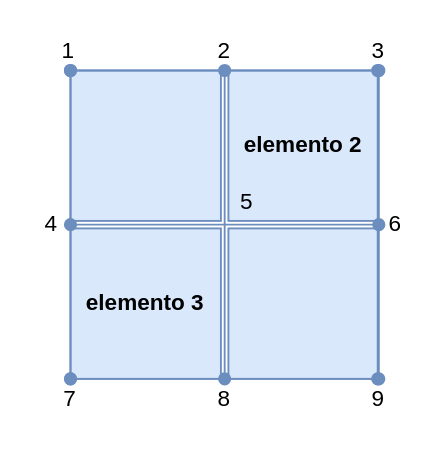
This 446x449 diagram has some shape labels left out. Each missing label, with the centre of its shape:
elemento 1: [145,145]
elemento 4: [303,303]
